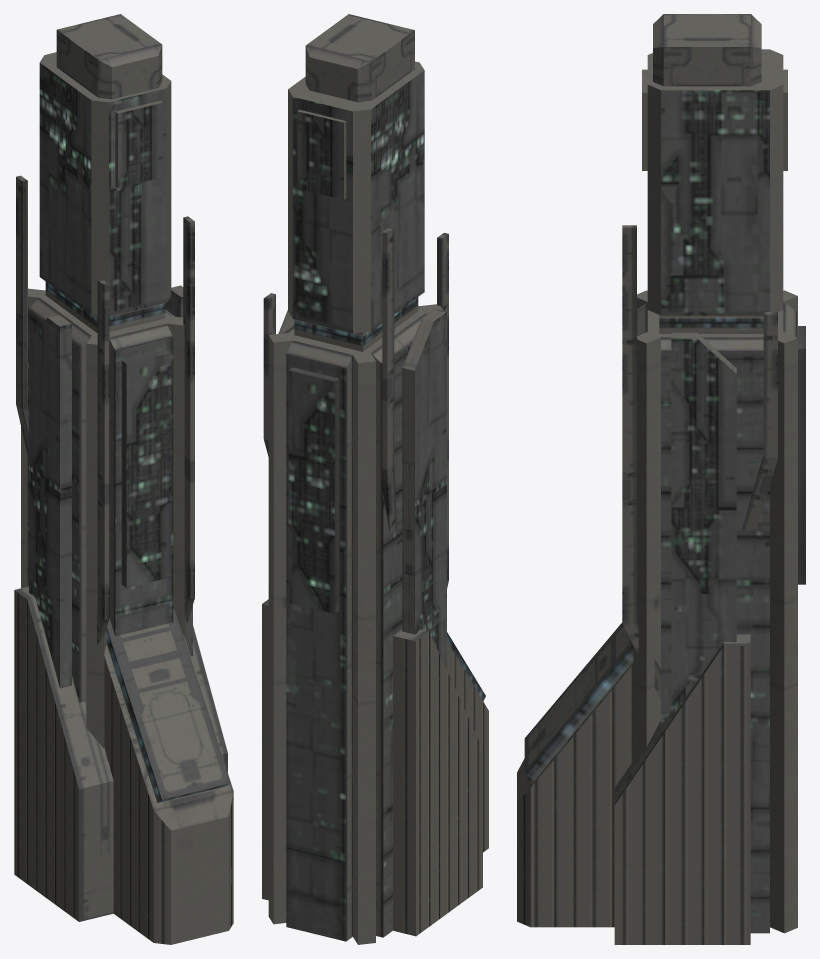
File: Skyscraper_distance_2.gltf
3 renders of one model, left to right at view 1: azimuth 30°, elevation 25°; view 2: azimuth 150°, elevation 25°; view 3: azimuth 270°, elevation 25°, orthographic. The views are drawn at different scales.
Visible parts, largest first — view 1: Skyscraper_distance_2; view 2: Skyscraper_distance_2; view 3: Skyscraper_distance_2.
Part boxes in pixels (x1,y1,x2,y2): Skyscraper_distance_2: (14,14,233,944); Skyscraper_distance_2: (262,14,488,944); Skyscraper_distance_2: (517,14,805,944).
Bounding box in the file's own units: 28.29 × 152 × 45.26.
Materials: 1 (1 with a texture image).
